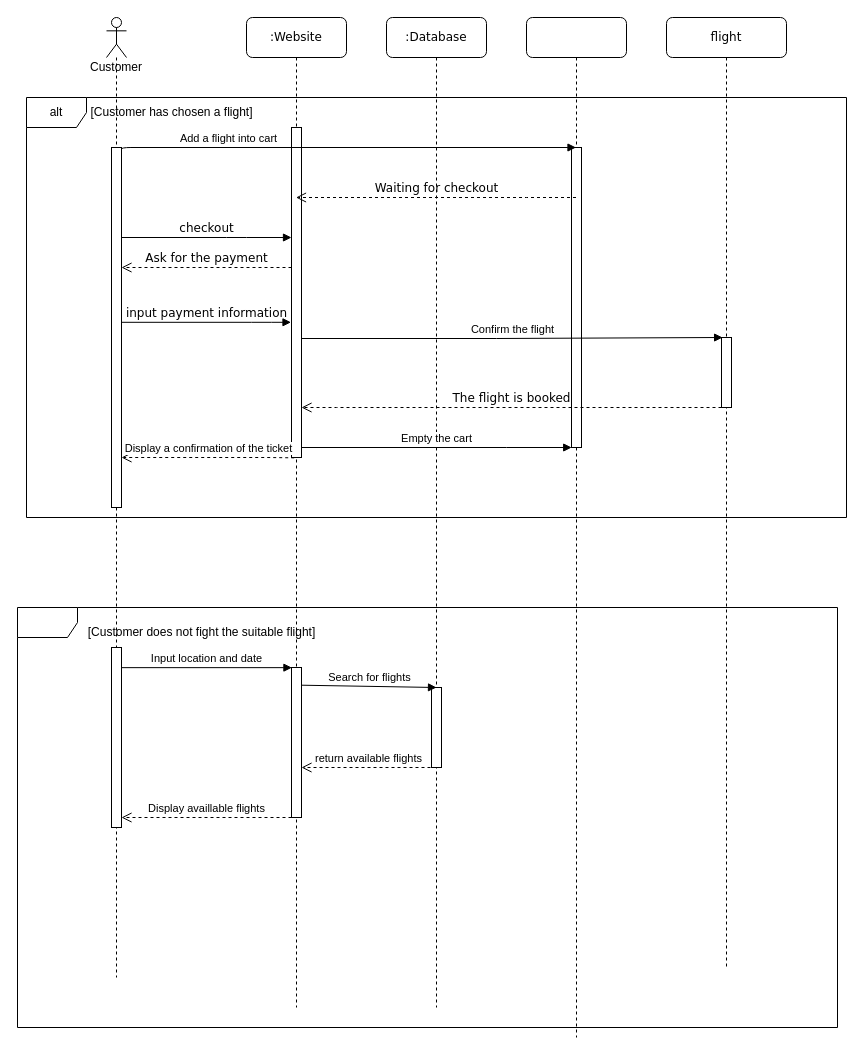
Some shapes in this 864 by 1055 pixel diagram are drawn without their labels. The box of each missing label's shape, as (x1, y1, x2, y2) in pixels:
:Cart: (526, 16, 626, 1038)
Loop: (16, 606, 838, 1028)
